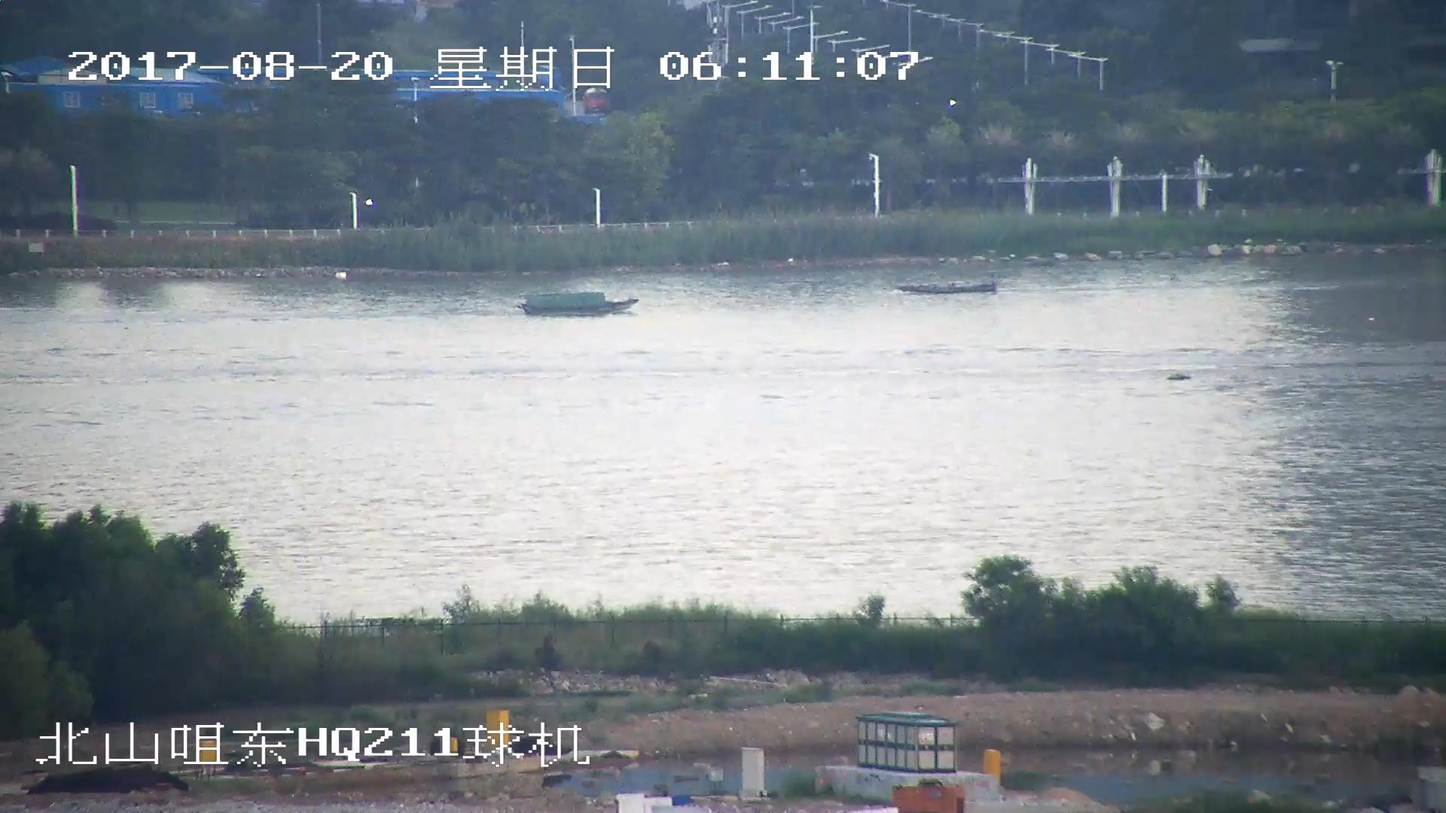fishing boat: (523, 289, 636, 312), (898, 278, 996, 294)
